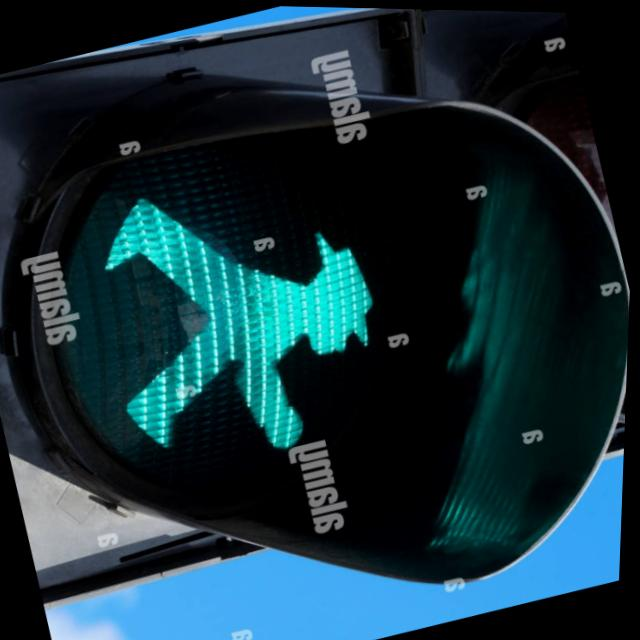green_light: (80, 150, 399, 469)
